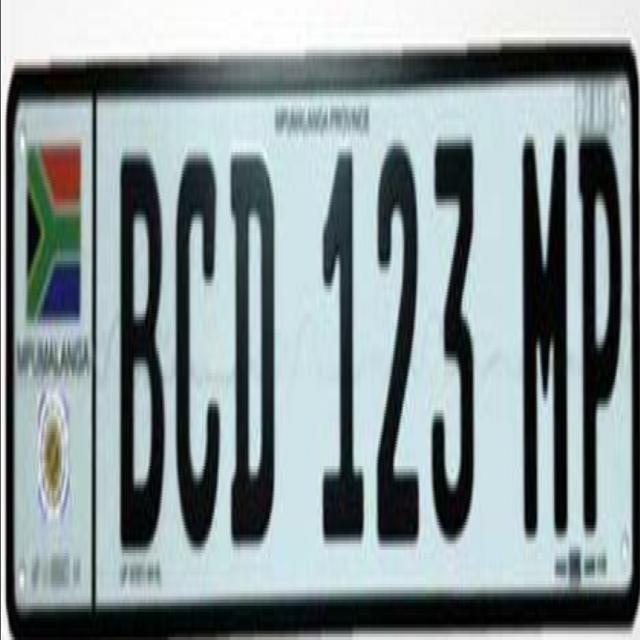1: (316, 127, 366, 574)
3: (428, 117, 482, 549)
B: (115, 135, 171, 578)
C: (173, 142, 224, 580)
D: (226, 128, 280, 560)
M: (513, 111, 572, 552)
P: (576, 117, 622, 545)
